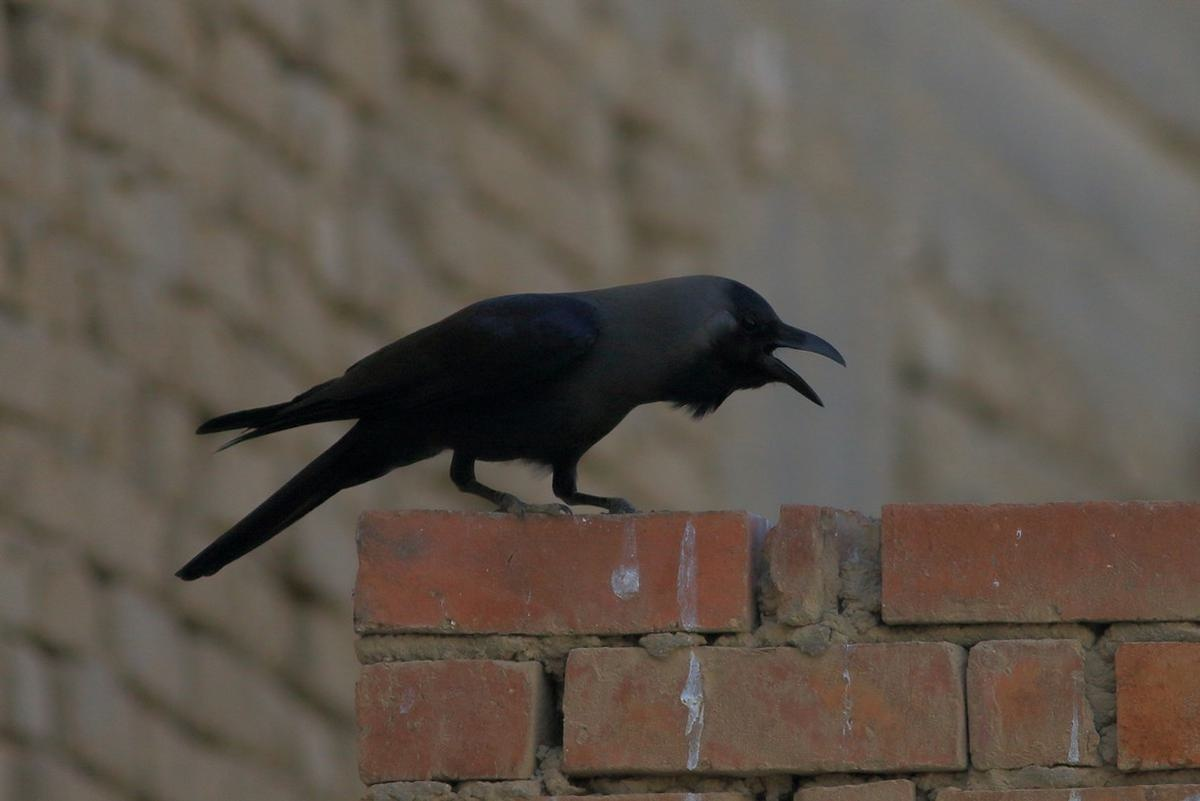crow: (137, 258, 871, 571)
